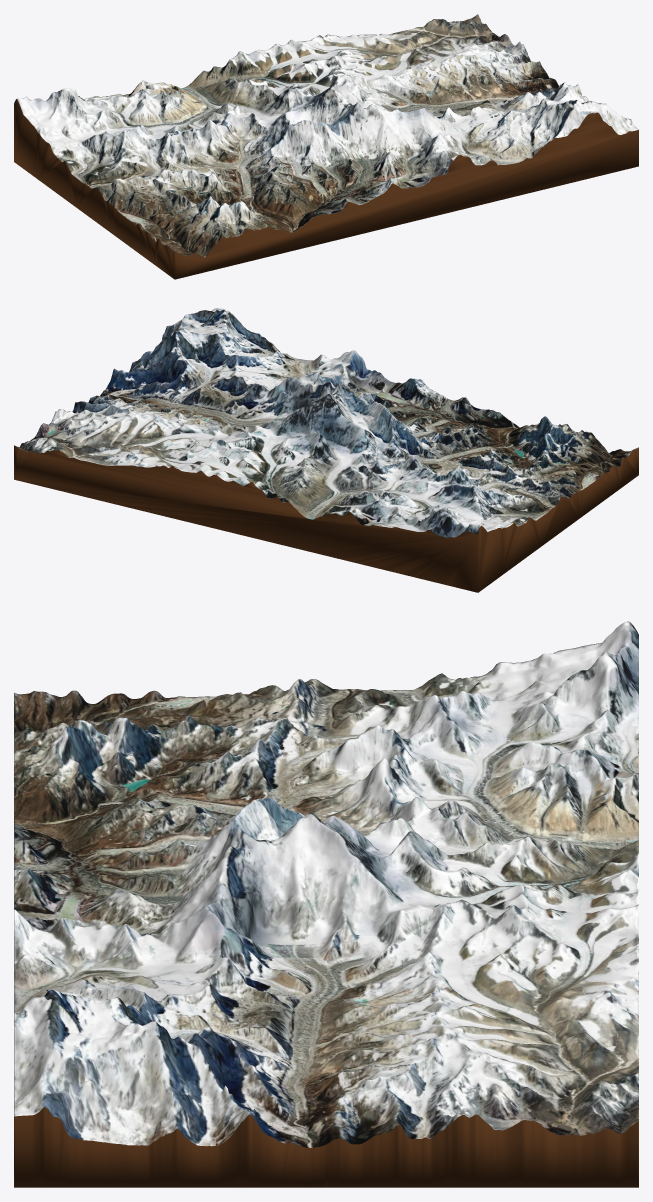
File: everest.glb
3 views of the same model, one above another, from view 1: azimuth 30°, elevation 25°; view 2: azimuth 150°, elevation 25°; view 3: azimuth 270°, elevation 25° (orthographic). The views are drawn at different scales.
Visible parts, largest first — view 1: EXPORT_GOOGLE_SAT_WM_Mat_0, EXPORT_GOOGLE_SAT_WM_Mat.1_0; view 2: EXPORT_GOOGLE_SAT_WM_Mat_0, EXPORT_GOOGLE_SAT_WM_Mat.1_0; view 3: EXPORT_GOOGLE_SAT_WM_Mat_0, EXPORT_GOOGLE_SAT_WM_Mat.1_0.
Part boxes in pixels (left/top/right/bottom): EXPORT_GOOGLE_SAT_WM_Mat_0: left=17, top=14, right=638, bottom=257; EXPORT_GOOGLE_SAT_WM_Mat.1_0: left=14, top=21, right=638, bottom=279; EXPORT_GOOGLE_SAT_WM_Mat_0: left=16, top=308, right=638, bottom=537; EXPORT_GOOGLE_SAT_WM_Mat.1_0: left=14, top=445, right=638, bottom=592; EXPORT_GOOGLE_SAT_WM_Mat_0: left=14, top=621, right=638, bottom=1147; EXPORT_GOOGLE_SAT_WM_Mat.1_0: left=14, top=643, right=638, bottom=1187.
Size of the model in its own units: 6.36 by 1.05 by 3.82.
2 materials, 1 textured.
